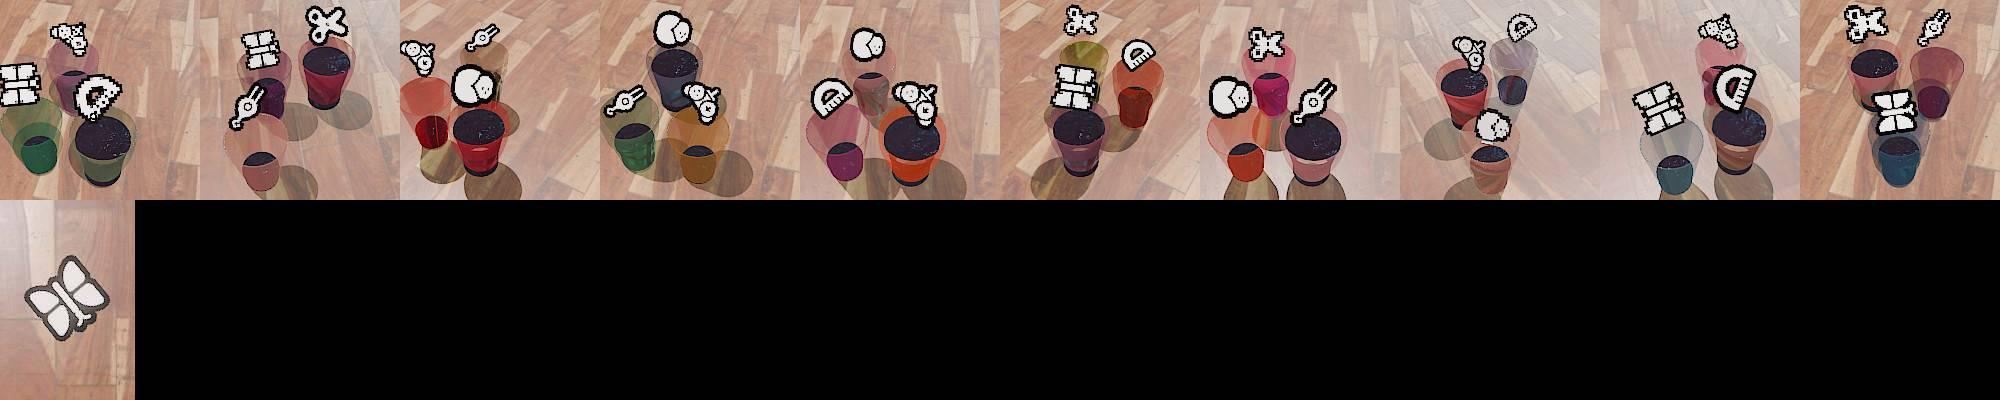icon: (23, 256, 110, 343), (1631, 79, 1689, 136), (1047, 61, 1099, 115), (71, 74, 122, 122), (1713, 61, 1759, 115), (1869, 88, 1918, 134), (1291, 75, 1339, 121), (892, 79, 937, 126), (809, 75, 853, 124), (1207, 74, 1251, 118), (450, 64, 497, 106), (0, 61, 42, 107), (230, 83, 269, 131), (681, 80, 723, 125), (1842, 4, 1886, 45), (305, 5, 349, 46), (240, 29, 282, 70), (603, 83, 648, 121), (652, 9, 694, 48), (50, 20, 91, 59), (1696, 14, 1739, 51), (399, 39, 436, 79), (1916, 8, 1952, 48), (1246, 25, 1287, 61), (1062, 4, 1102, 38), (1473, 108, 1513, 143), (1452, 34, 1487, 71), (849, 27, 885, 61), (1120, 38, 1156, 71), (1505, 11, 1540, 42), (464, 23, 500, 52)
